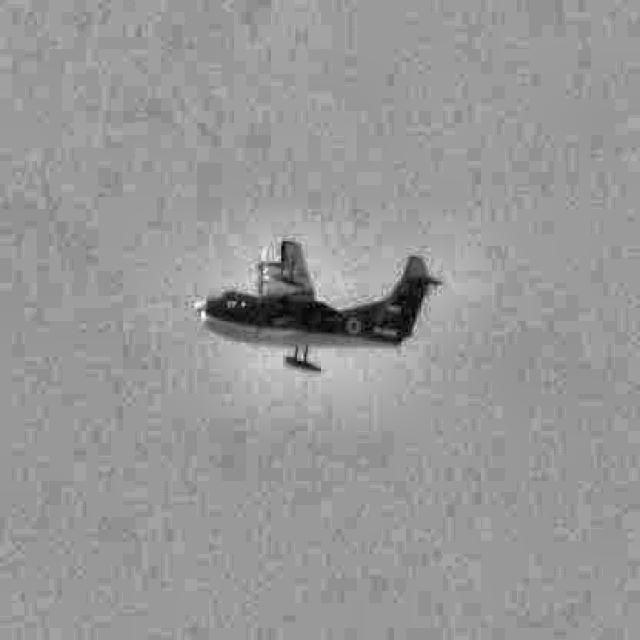US2: (194, 238, 443, 372)
